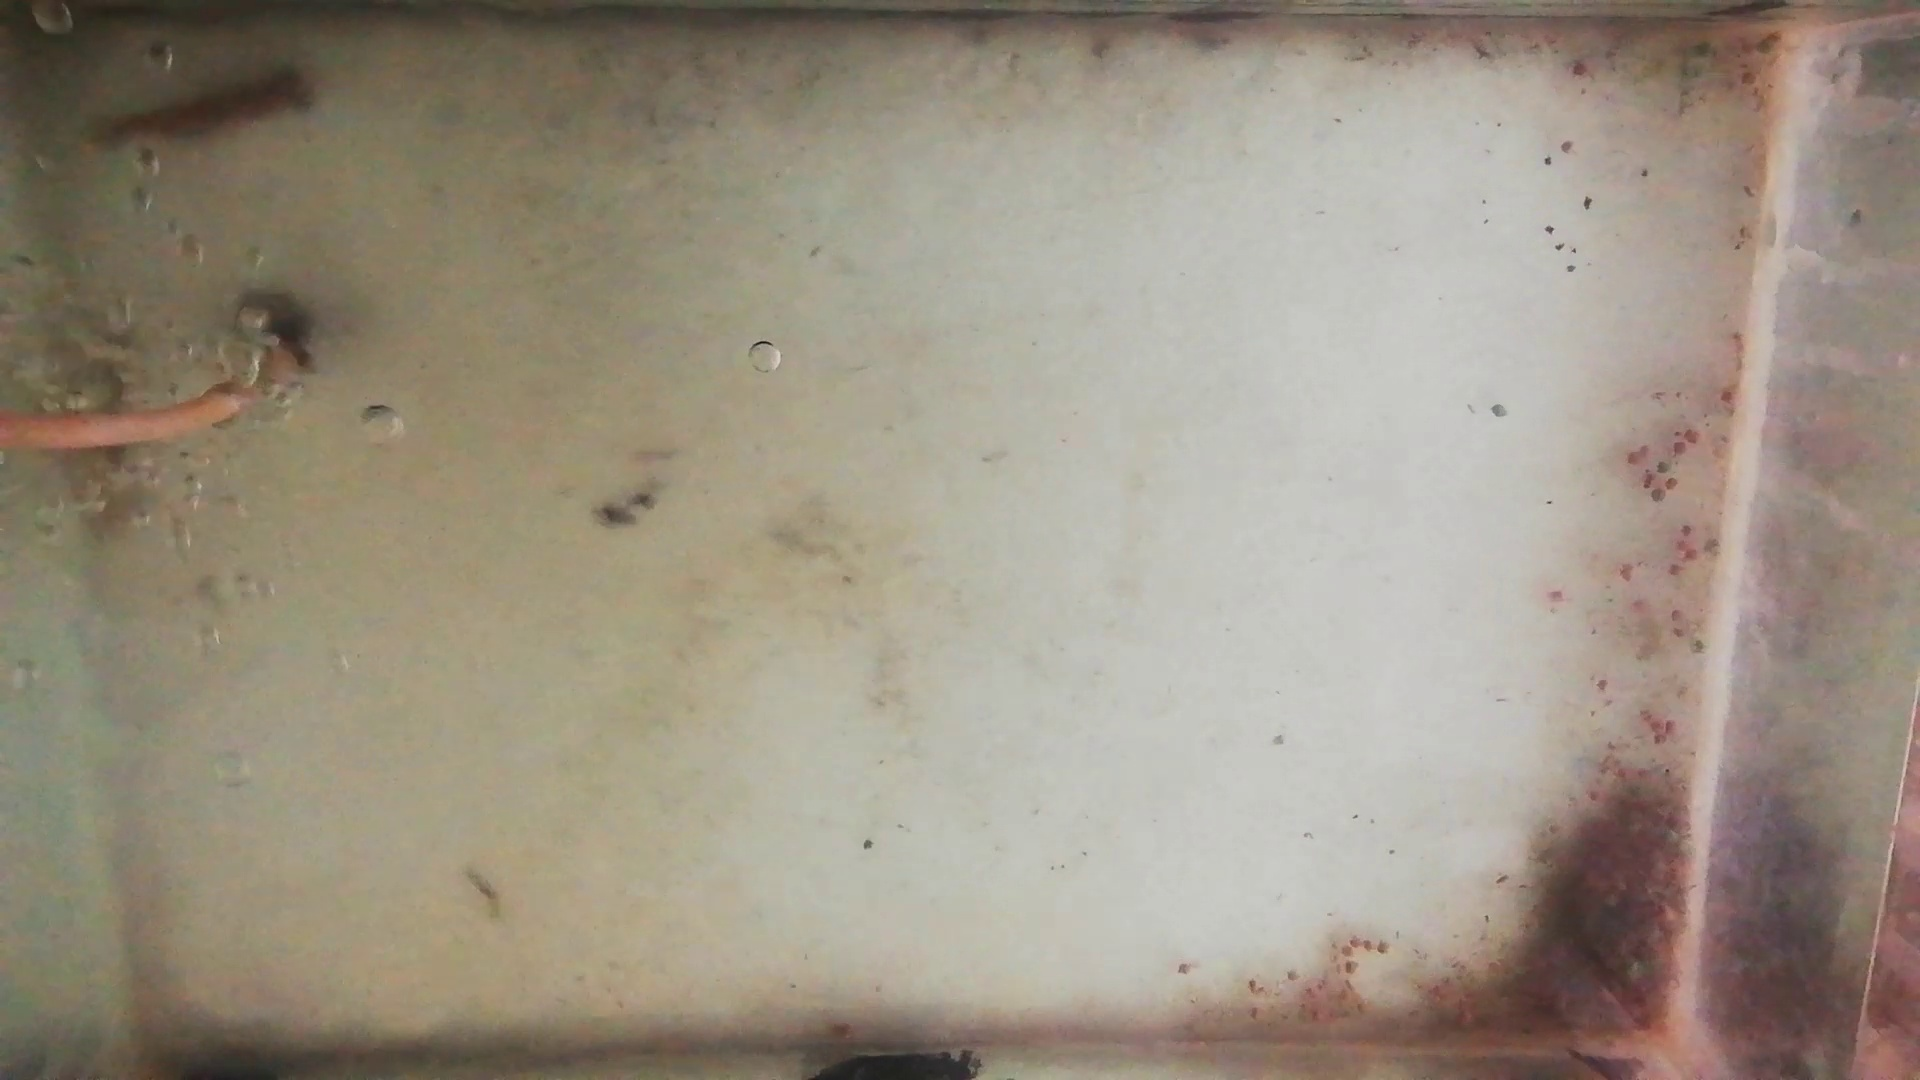fish: (87, 65, 316, 152), (70, 338, 142, 526)
